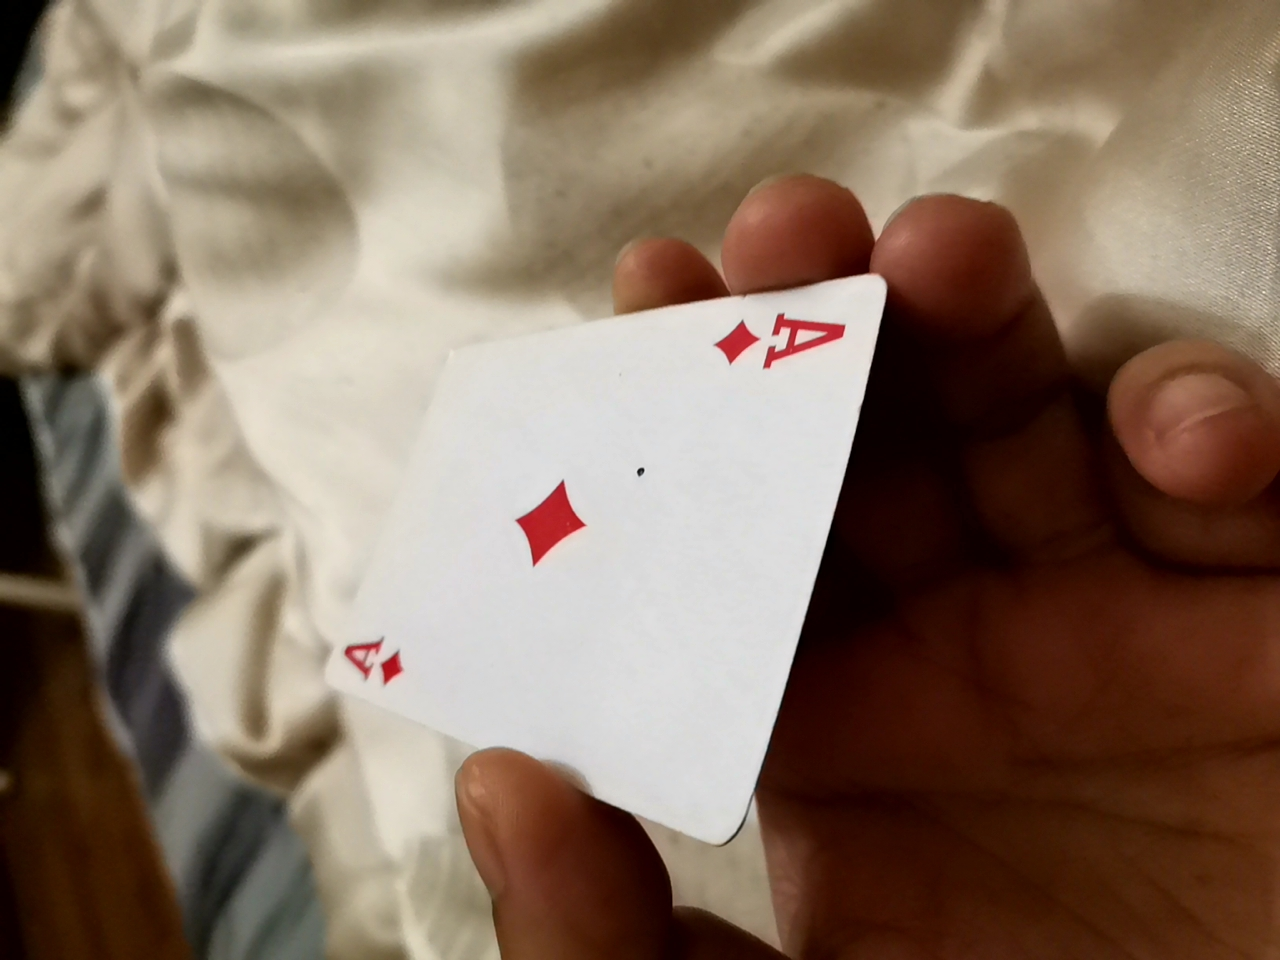fk a: (294, 289, 894, 858)
